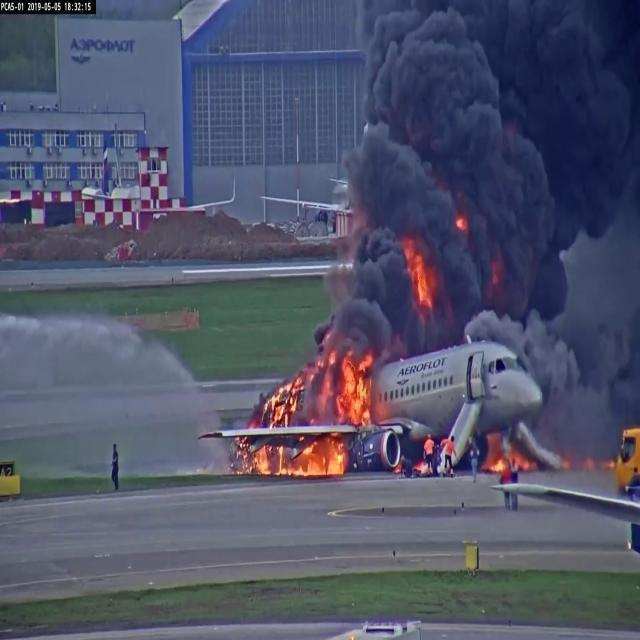Fire: (255, 448, 344, 481), (340, 358, 373, 424)
Smoke: (375, 14, 561, 304)
